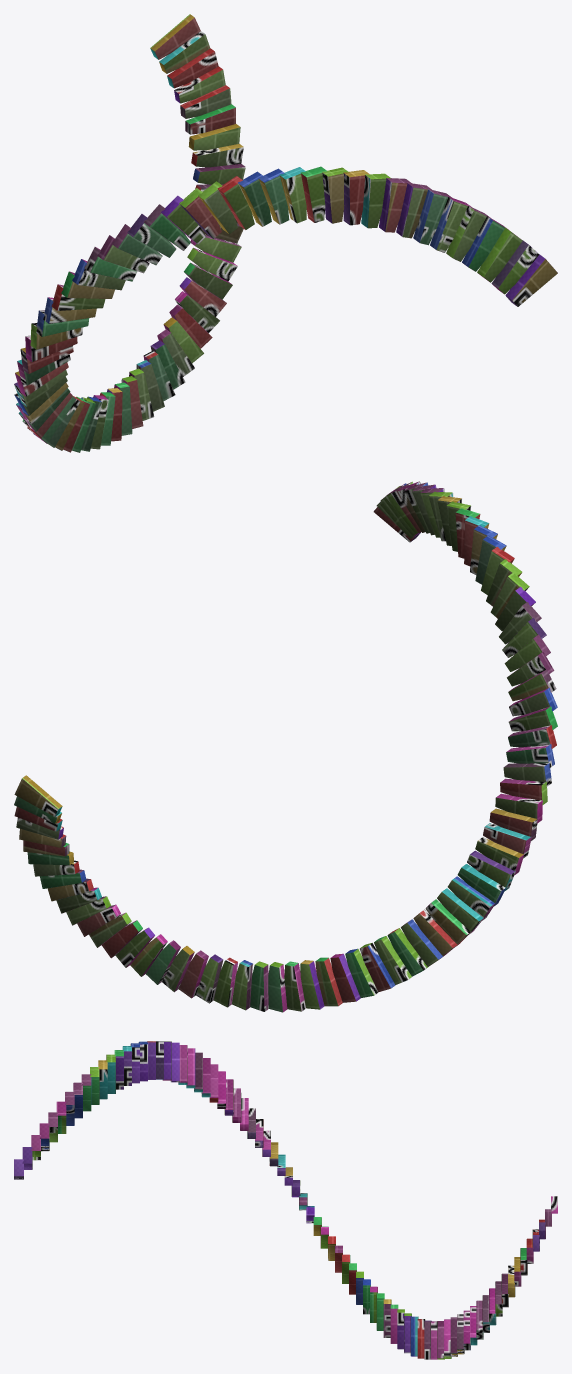
File: Stairs_to_hell_02.fbx
The picture shows the model from 3 angles, top to bottom: view 1: azimuth 30°, elevation 25°; view 2: azimuth 150°, elevation 25°; view 3: azimuth 270°, elevation 25°; orthographic projection. The views are drawn at different scales.
Parts seen in each view (by area): view 1: Stairs_hell_02; view 2: Stairs_hell_02; view 3: Stairs_hell_02.
Boxes of the visible parts, x1=… form: Stairs_hell_02: x1=14, y1=14, x2=557, y2=452; Stairs_hell_02: x1=14, y1=481, x2=557, y2=1012; Stairs_hell_02: x1=14, y1=1041, x2=557, y2=1359.
Bounding box in the file's own units: 13.33 × 13.33 × 22.77.
